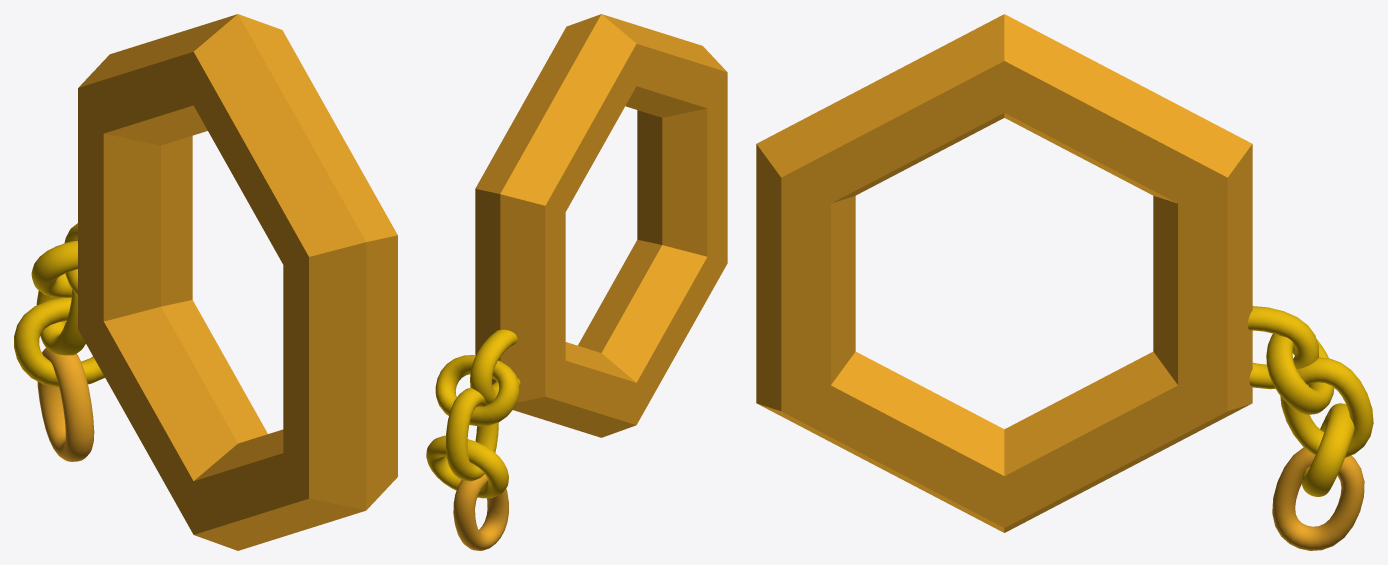
Rendered from monocle.fbx.
3 renders of one model, left to right at view 1: azimuth 30°, elevation 25°; view 2: azimuth 150°, elevation 25°; view 3: azimuth 270°, elevation 25°, orthographic. The views are drawn at different scales.
Parts seen in each view (by area): view 1: Torus.006; view 2: Torus.006; view 3: Torus.006.
Part boxes in pixels (box(x1,y1,x2,y2)): Torus.006: box(14, 14, 397, 550); Torus.006: box(426, 14, 727, 550); Torus.006: box(756, 14, 1373, 550).
Bounding box in the file's own units: 52.09 × 260 × 269.
